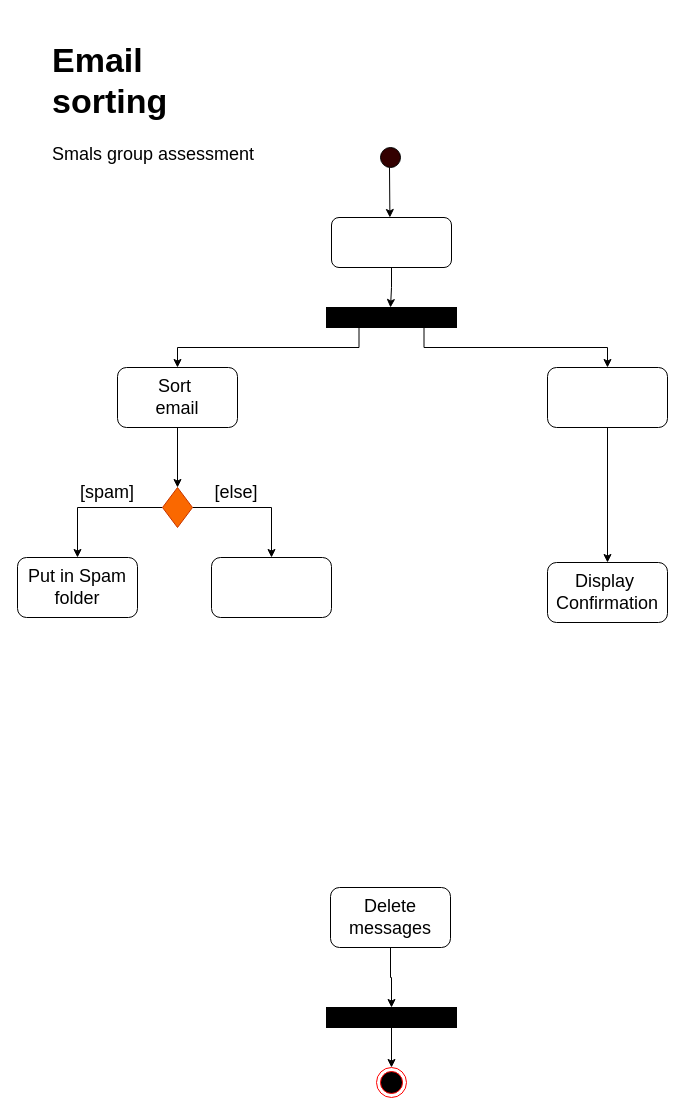
This 685x1115 diagram has some shape labels left out. Each missing label, with the centre of its shape:
"Receive Email" goes at (x=391, y=242).
"Send Confirmation" goes at (x=607, y=397).
